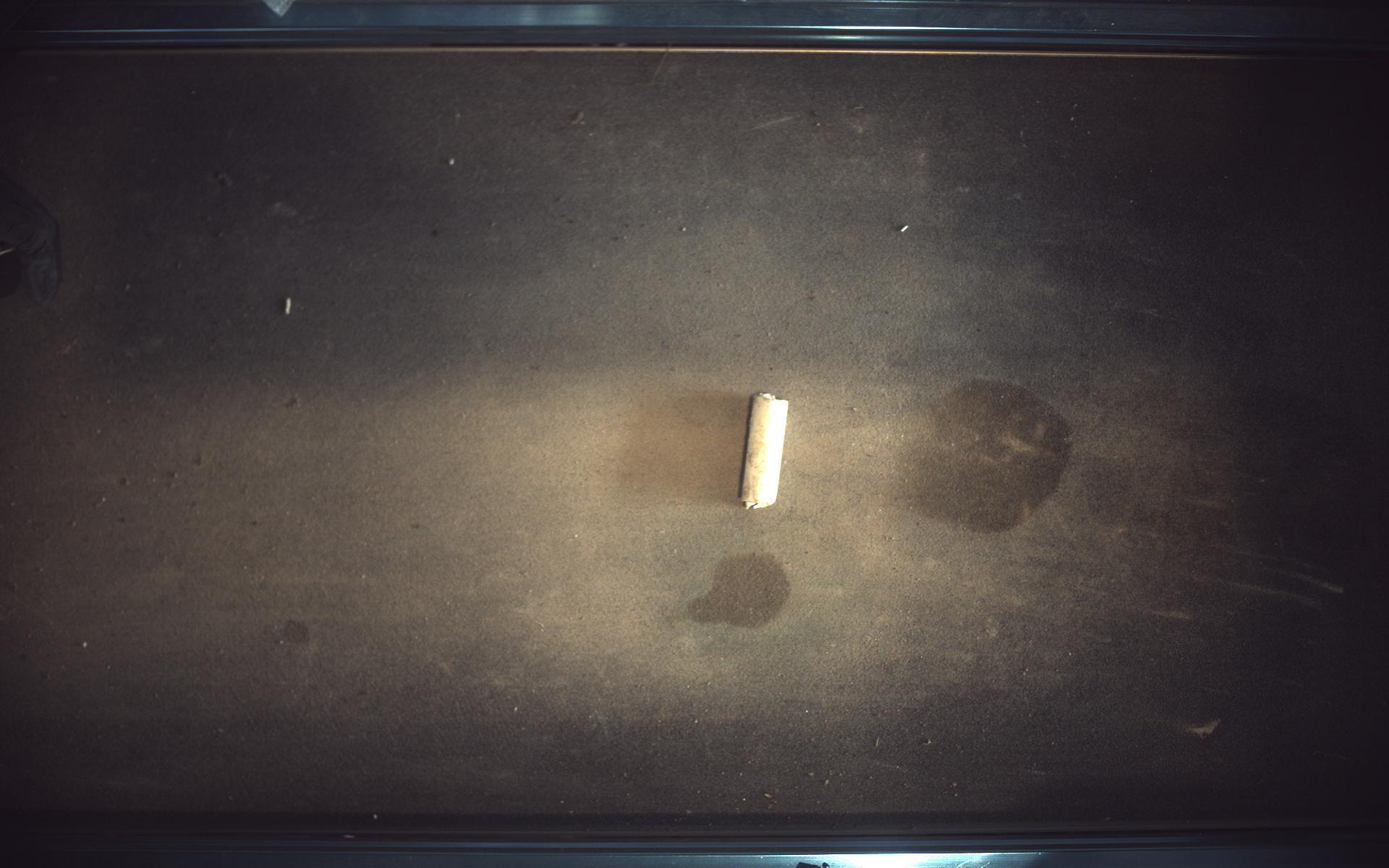pipes: (742, 393, 790, 509)
